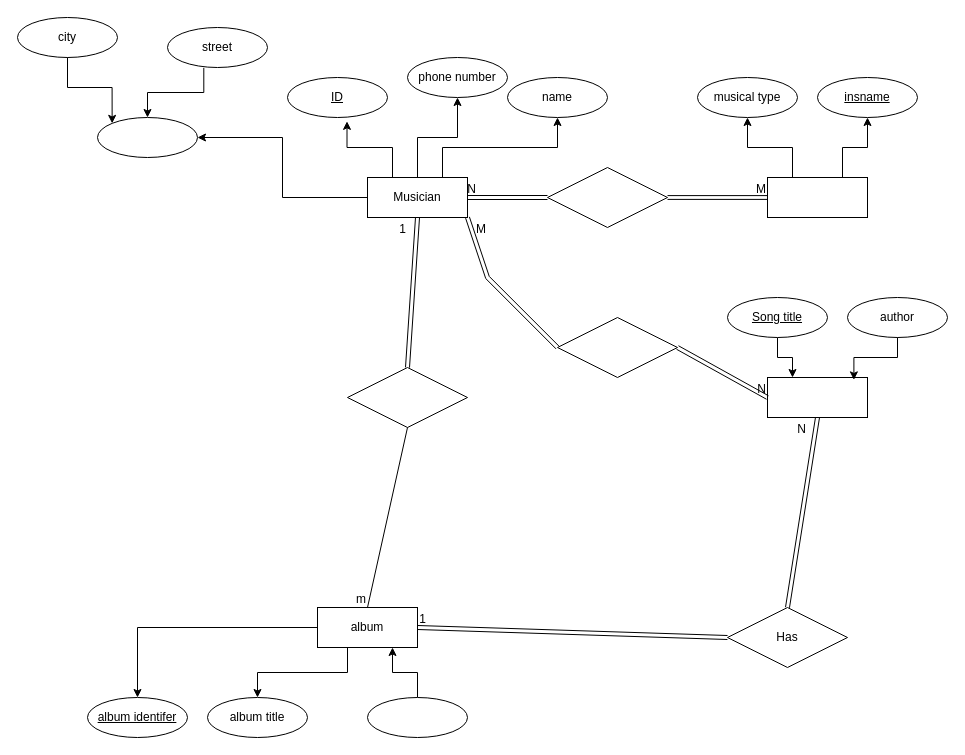
Some shapes in this 965 by 755 pixel diagram are drawn without their labels. The shapes that lost their labels are listed below. From the top down, each one's box as (x1, y1, x2, y2) in pixels, then its label:
(96, 116, 198, 158): address
(546, 166, 668, 228): plays
(766, 176, 868, 218): instrument
(556, 316, 678, 378): Perform
(346, 366, 468, 428): Produce
(766, 376, 868, 418): song
(366, 696, 468, 738): Date
